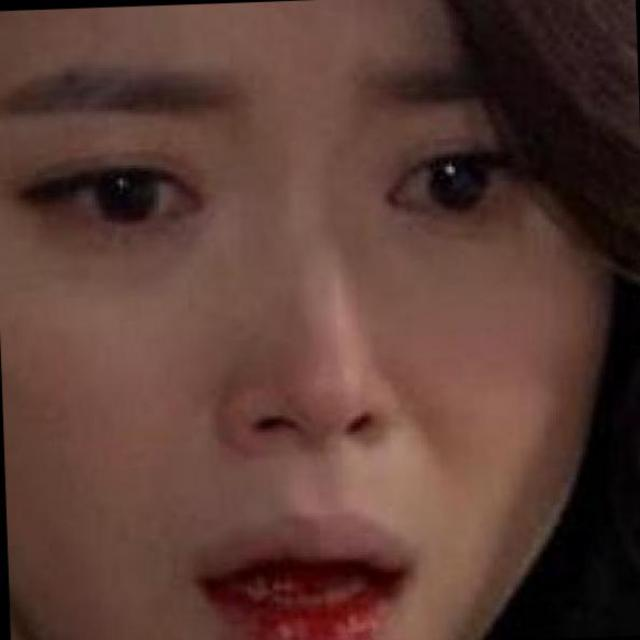Surprised: (0, 45, 624, 640)
